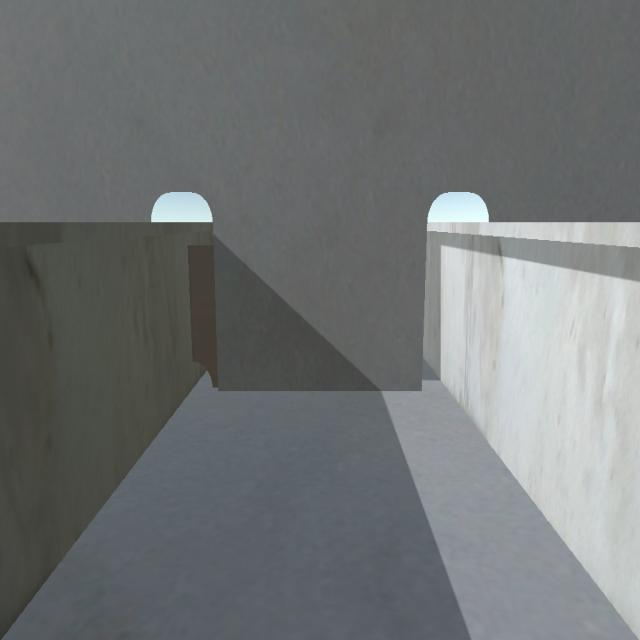fillet_hole: (189, 356, 216, 394)
fillet_yong_jeop_jang: (214, 374, 423, 398)
longi_yong_jeop_jang: (181, 247, 194, 363)
plate_behind: (185, 245, 217, 387)
